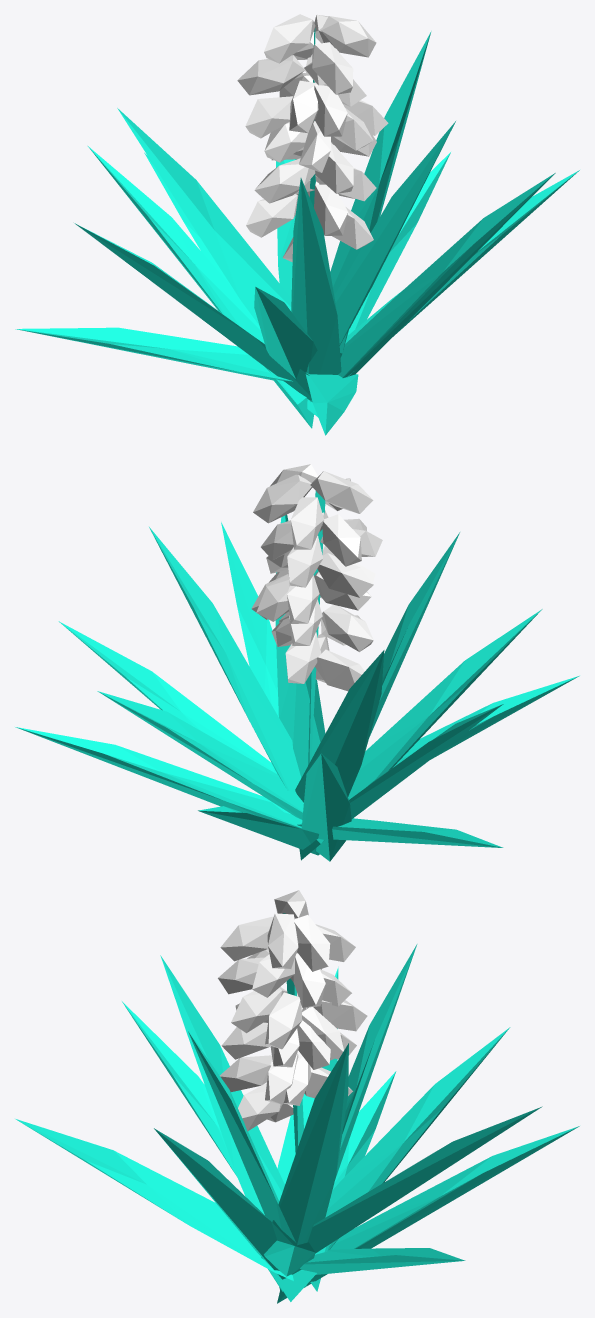
File: Yucca_LOD1.fbx
3 views of the same model, one above another, from view 1: azimuth 30°, elevation 25°; view 2: azimuth 150°, elevation 25°; view 3: azimuth 270°, elevation 25° (orthographic). The views are drawn at different scales.
Parts seen in each view (by area): view 1: Yucca_LOD1; view 2: Yucca_LOD1; view 3: Yucca_LOD1.
Boxes of the visible parts, left/top/right/bottom form: Yucca_LOD1: left=15, top=14, right=579, bottom=435; Yucca_LOD1: left=15, top=464, right=579, bottom=861; Yucca_LOD1: left=15, top=890, right=579, bottom=1303.
Bounding box in the file's own units: 180 × 140 × 185.
